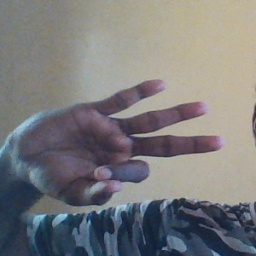K: (7, 77, 223, 204)
